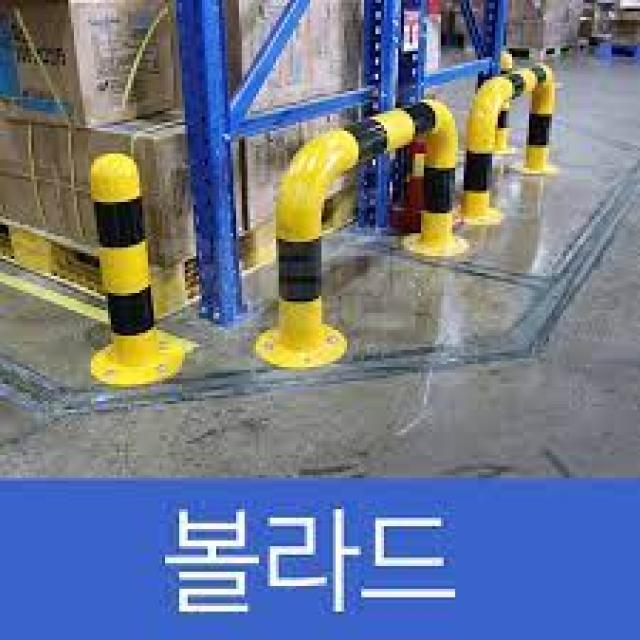bollard: (244, 92, 481, 378), (75, 144, 192, 395), (456, 58, 566, 222)
